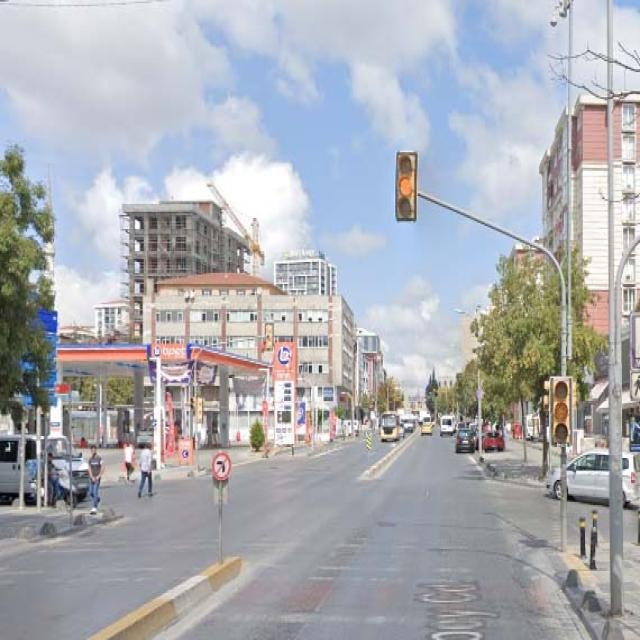sari: (549, 377, 573, 447), (395, 149, 418, 221)
soladonulmez: (211, 452, 231, 482)
